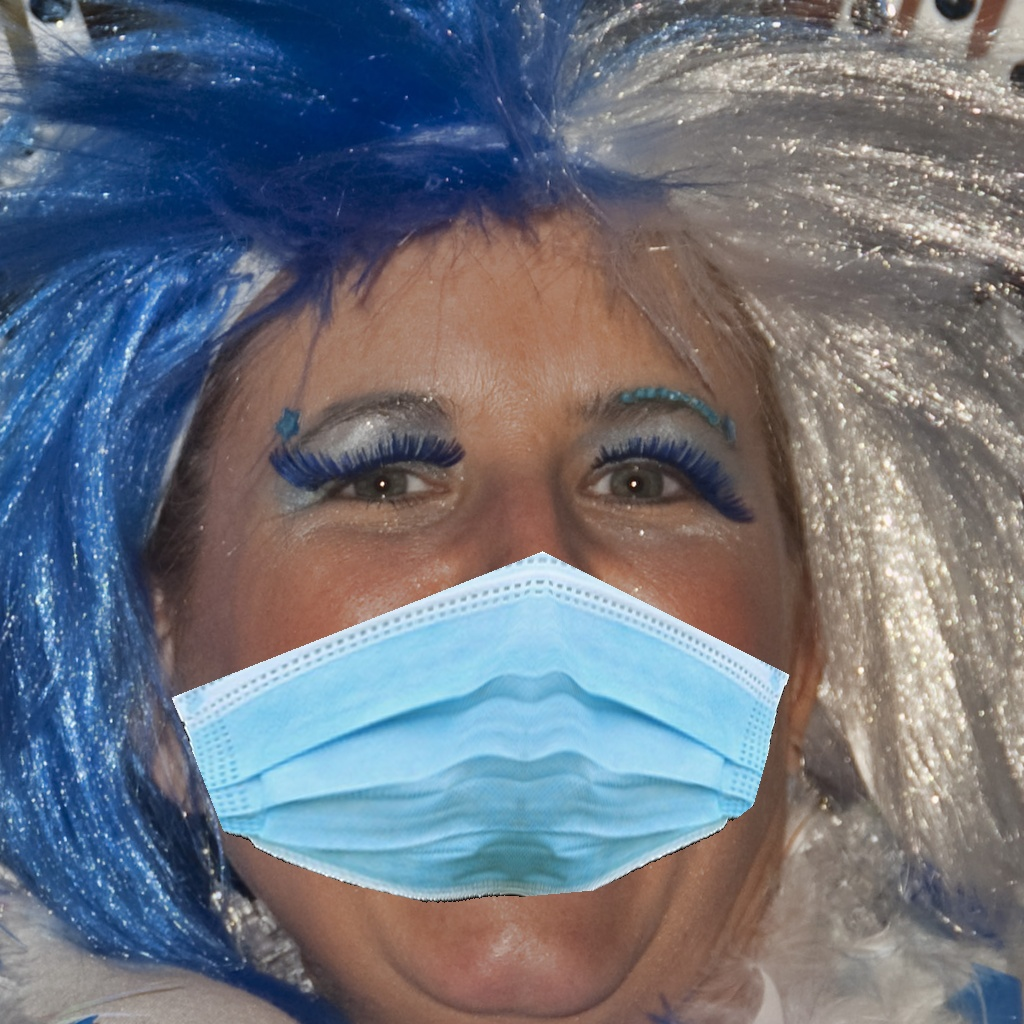mascarilla_mal_puesta: (163, 348, 881, 1000)
